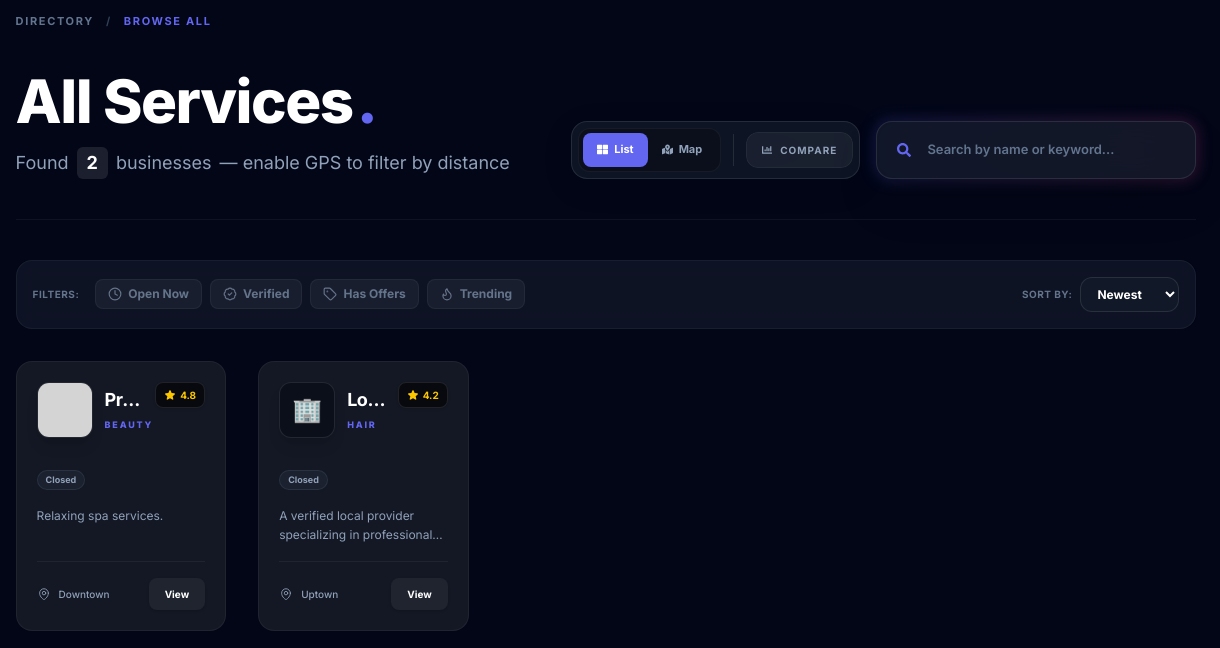
Test: Services Page › filters results based on search query
Expected: the heading "Premium Spa" is shown, top-left (105, 386), bottom-right (143, 414)
Type "Premium" into the field with placeholder "Search by name or keyword..." at (1053, 150), box top-left (911, 123), bottom-right (1195, 176)
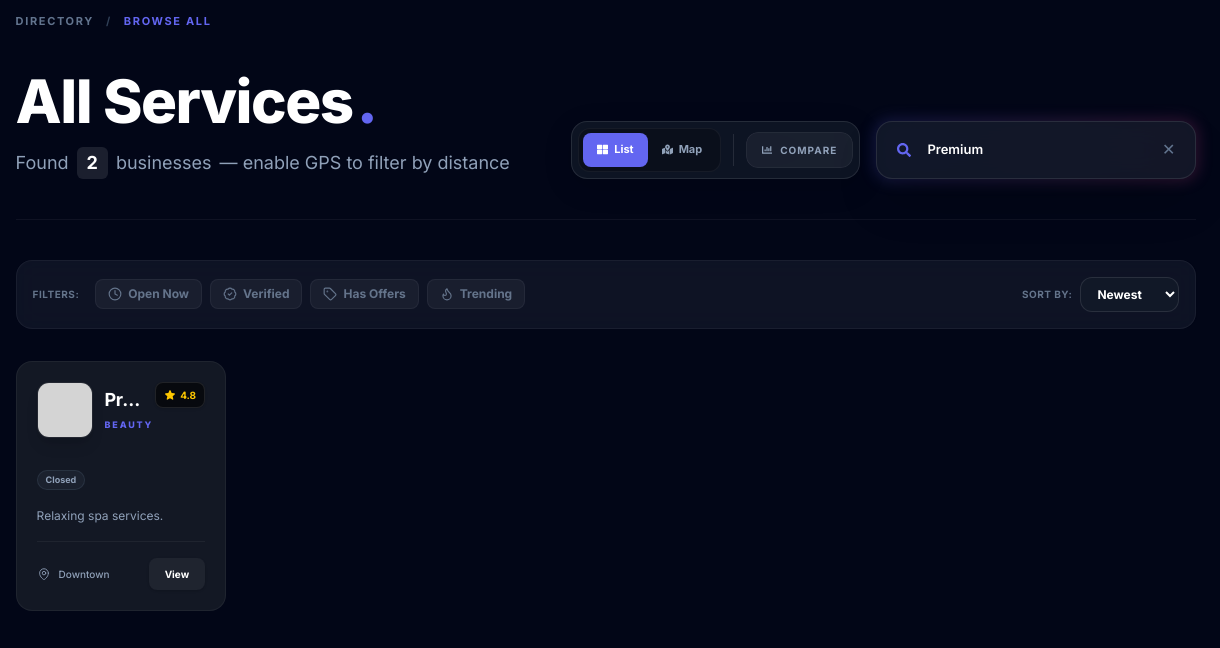
Expected: the heading "Premium Spa" is shown, top-left (105, 386), bottom-right (143, 414)
Expected: the heading "Local Salon" is gone
